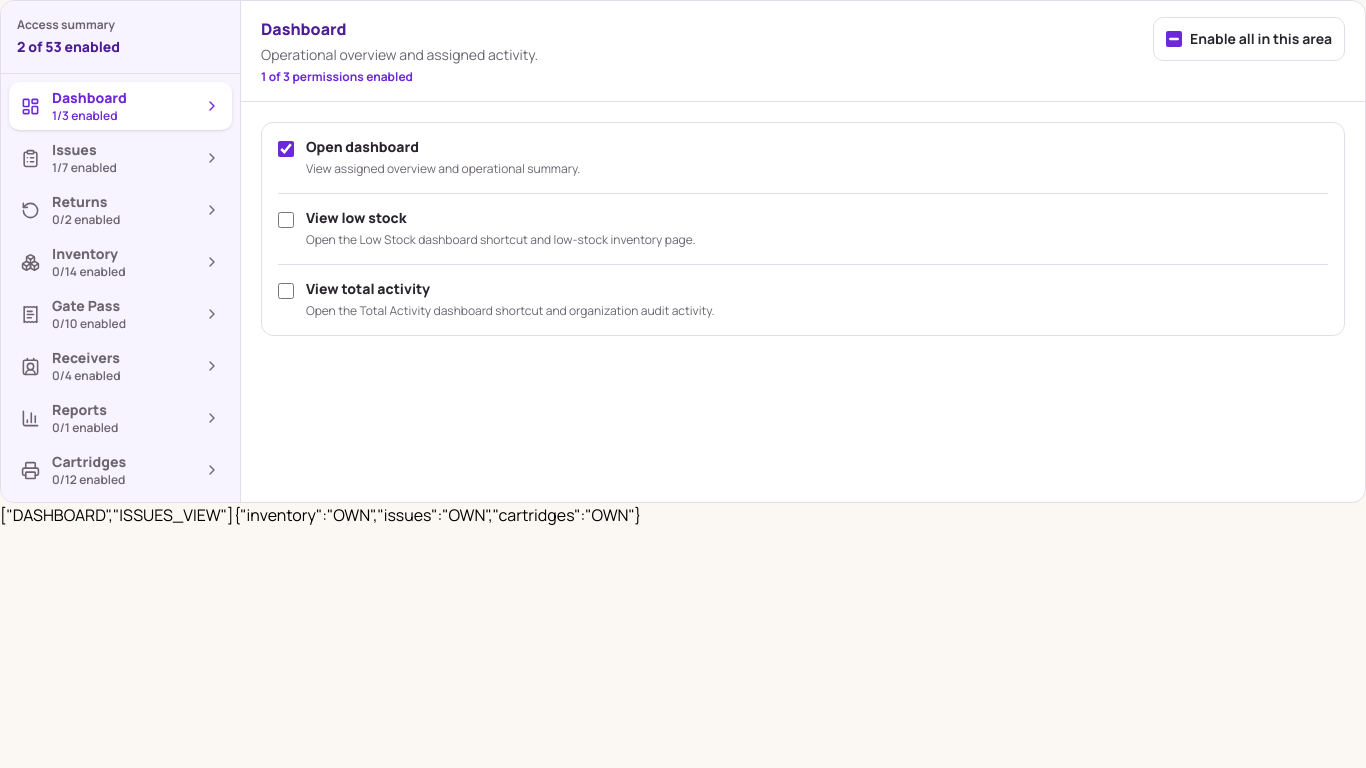
Scenario: AccessEditor › shows a partial state and can enable an entire area
Click the button "Issues 1/7 enabled".
click(120, 158)  # box [9,134,232,182]
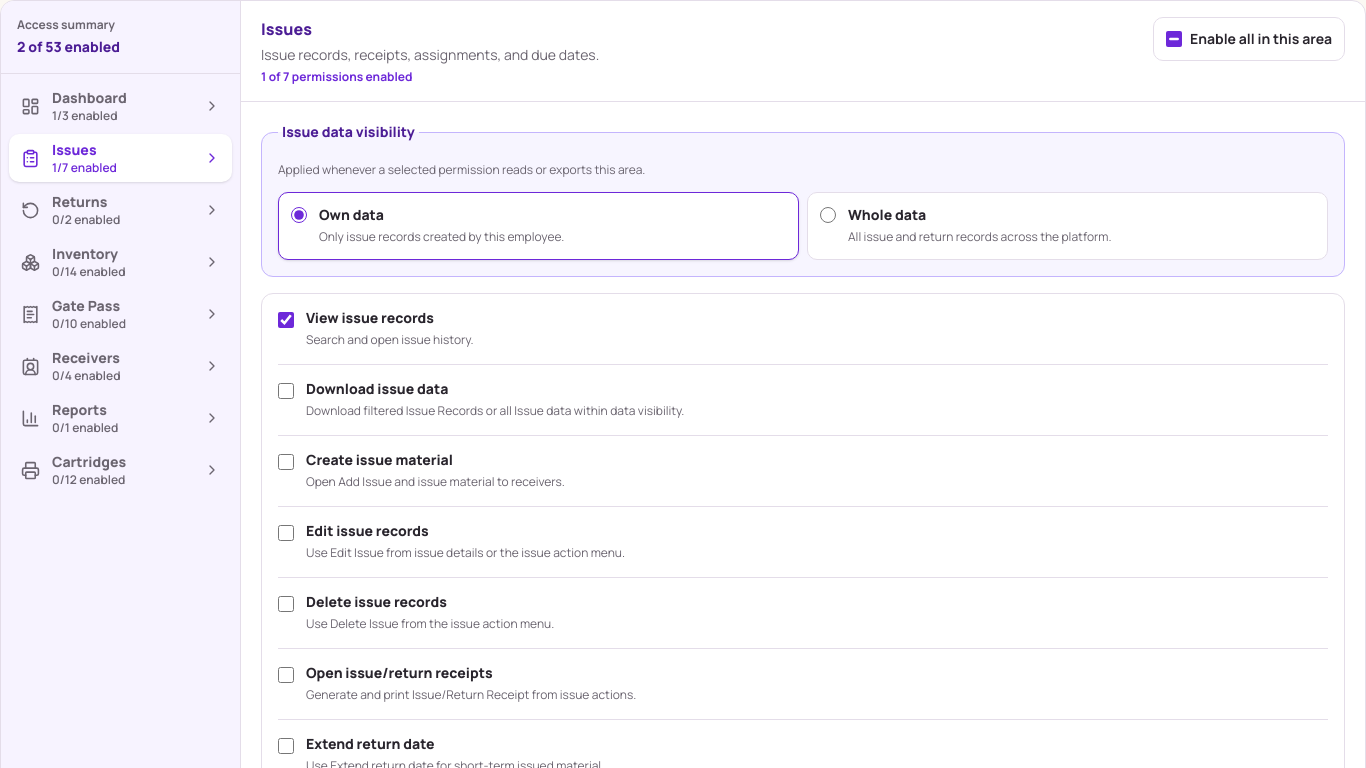
Click the checkbox named "Enable all Issues permissions".
click(1174, 39)  # box [1166,31,1182,47]
(page scrolled)
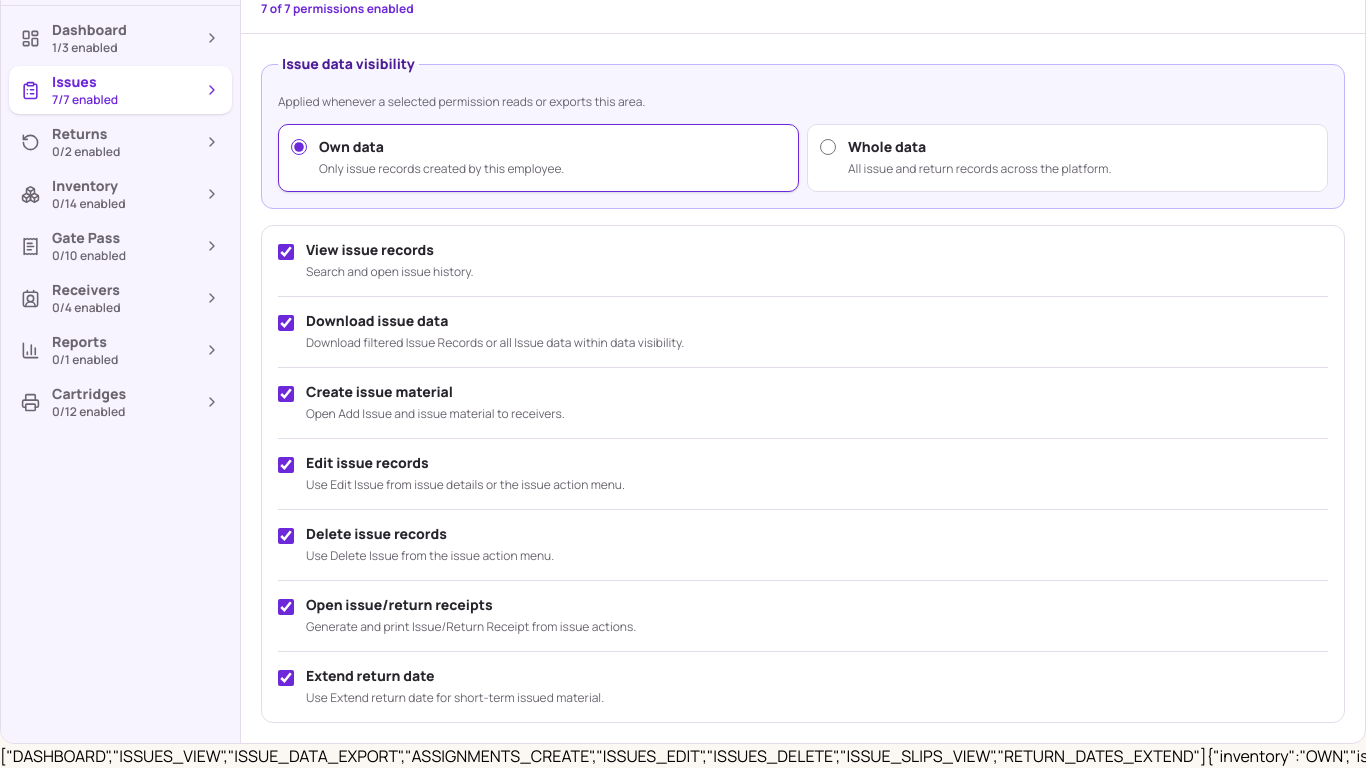
Expected: the text with test id "permissions" shows "\"ASSIGNMENTS_CREATE\"", [0,745,1206,767]
Expected: the text with test id "permissions" shows "\"RETURN_DATES_EXTEND\"", [0,745,1206,767]
